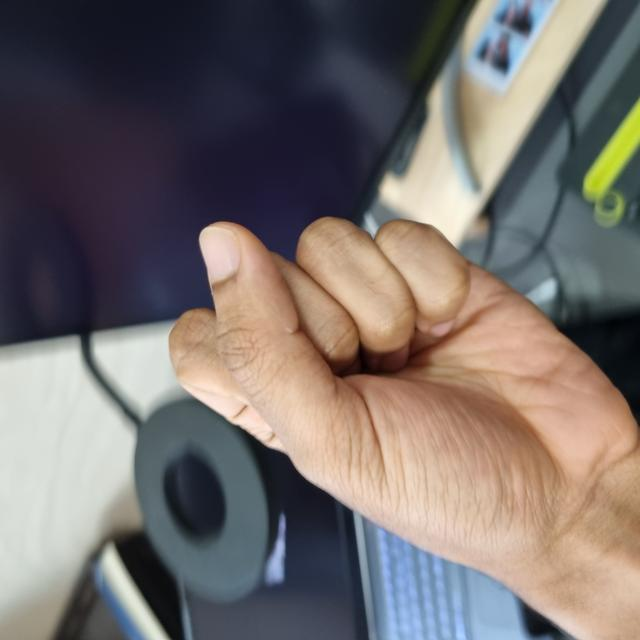Rock: (46, 177, 425, 635)
